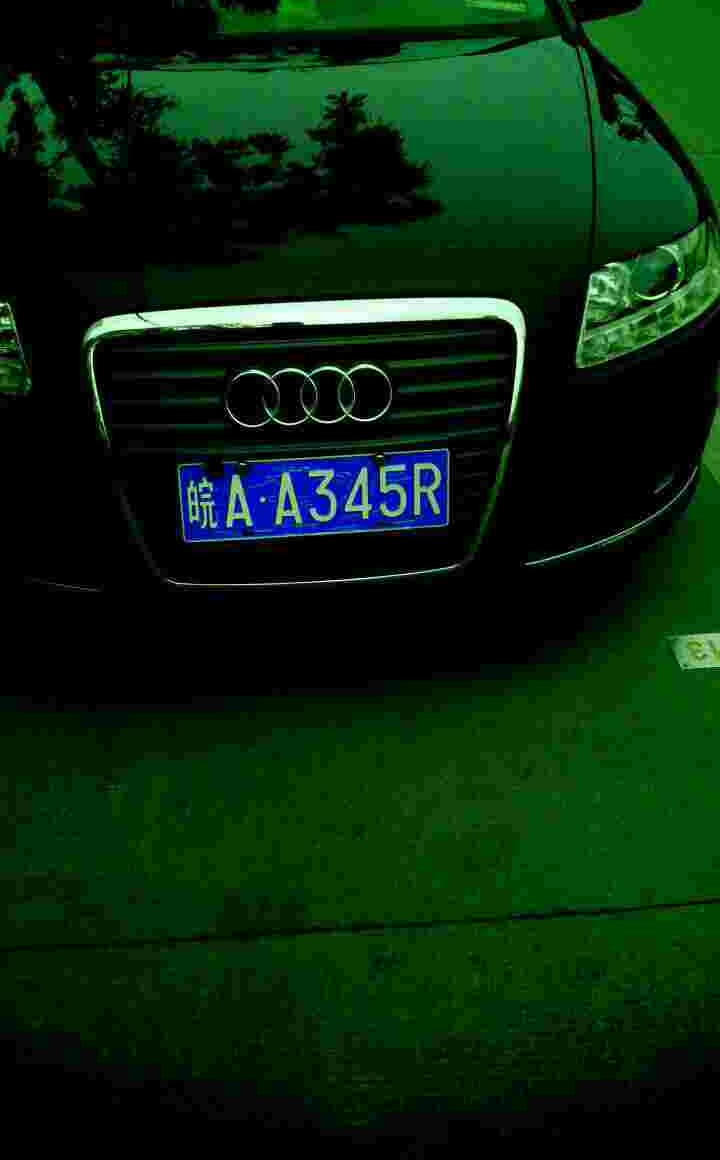car: (169, 454, 458, 534)
